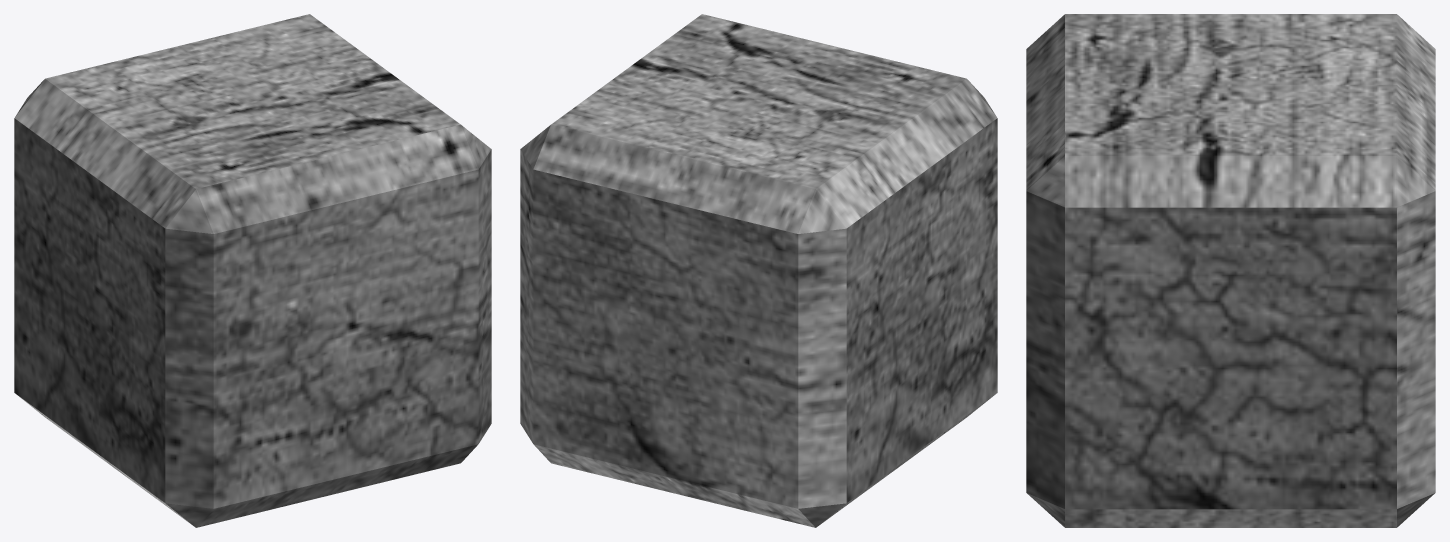
The model's file is block.obj.
3 renders of one model, left to right at view 1: azimuth 30°, elevation 25°; view 2: azimuth 150°, elevation 25°; view 3: azimuth 270°, elevation 25°, orthographic. The views are drawn at different scales.
Visible parts, largest first — view 1: pCube1; view 2: pCube1; view 3: pCube1.
Part boxes in pixels (<box>): pCube1: <box>14,14,491,527</box>; pCube1: <box>520,14,997,527</box>; pCube1: <box>1026,14,1435,527</box>.
Bounding box in the file's own units: 1.12 × 1.11 × 1.11.
